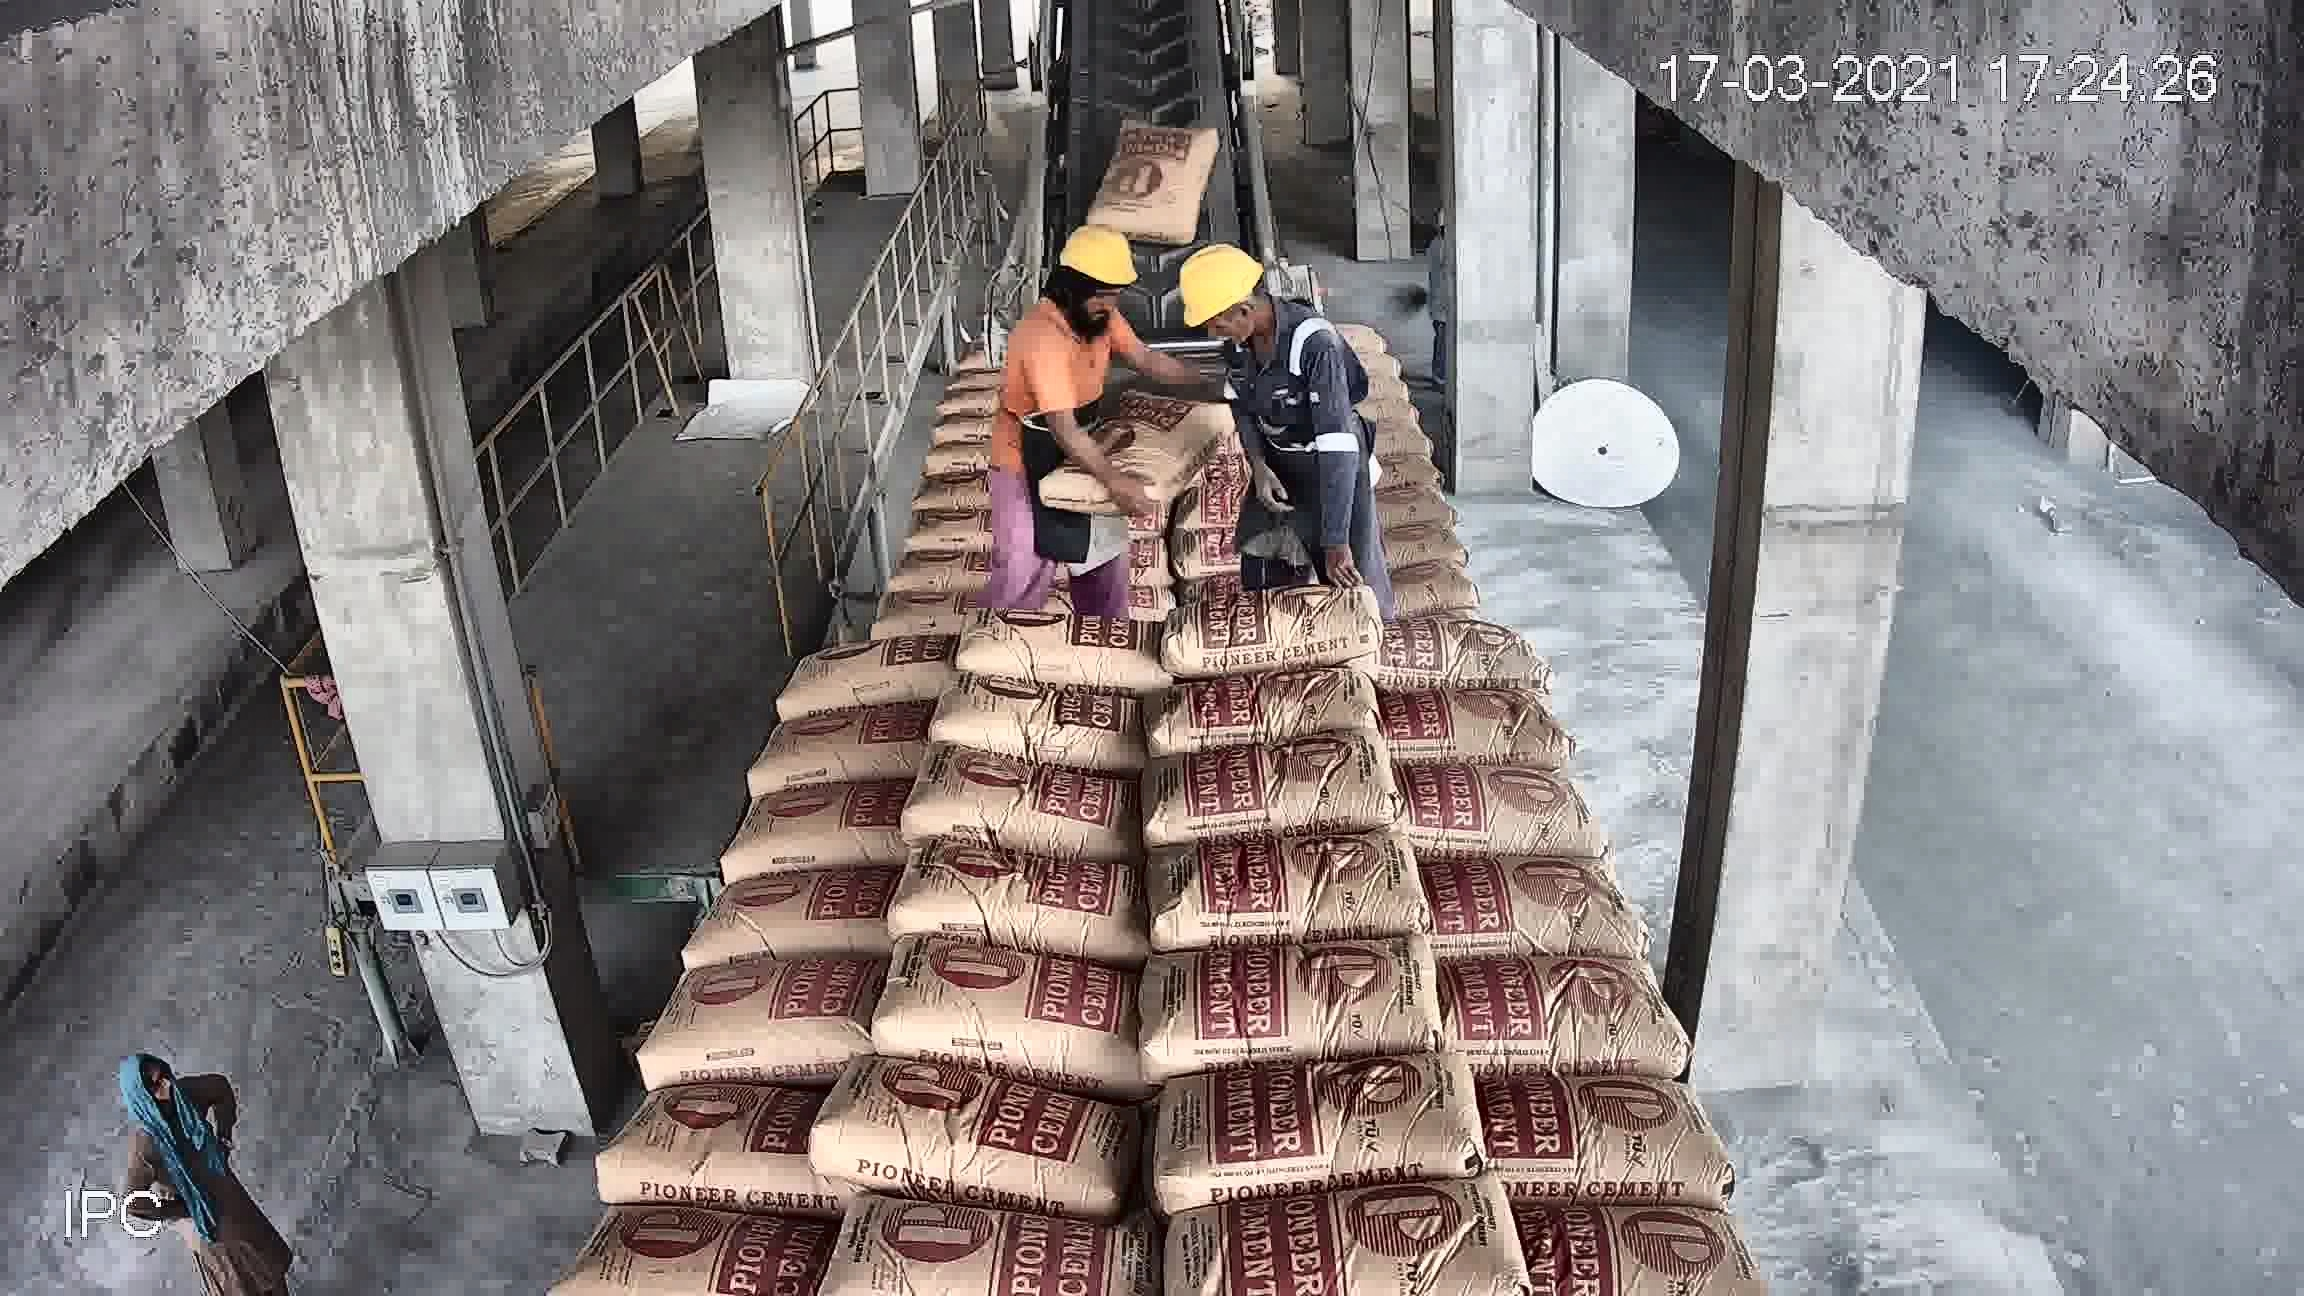bag: (1112, 195, 1214, 294)
bag_h: (1119, 932, 1468, 1084), (1146, 1168, 1554, 1296), (1464, 1025, 1720, 1228), (1106, 1048, 1492, 1180), (748, 1059, 1149, 1177), (870, 919, 1166, 1059), (1150, 836, 1443, 954), (885, 832, 1158, 956), (590, 1078, 840, 1212), (791, 1192, 1157, 1283), (1155, 728, 1416, 843), (543, 1188, 836, 1290), (1127, 663, 1404, 760), (635, 962, 878, 1071), (908, 745, 1146, 855), (1423, 836, 1628, 949), (1396, 745, 1595, 859), (1161, 585, 1396, 680), (703, 779, 919, 880), (1453, 967, 1669, 1067), (919, 677, 1146, 766), (1380, 684, 1586, 775), (687, 870, 885, 964), (1532, 1226, 1794, 1296), (744, 709, 946, 793), (1163, 517, 1359, 603), (965, 544, 1154, 633), (965, 600, 1157, 679), (760, 647, 926, 729), (1374, 623, 1541, 699), (1334, 457, 1484, 535), (1302, 396, 1454, 468), (1342, 516, 1510, 581), (1161, 446, 1326, 510), (853, 449, 1044, 502), (980, 513, 1161, 563), (1152, 498, 1328, 546), (986, 464, 1149, 513), (839, 525, 938, 601), (798, 593, 961, 638), (843, 492, 975, 543), (1374, 574, 1533, 616), (1176, 380, 1279, 443), (926, 389, 1014, 448), (1168, 343, 1263, 396)
belt: (1049, 32, 1258, 299)
